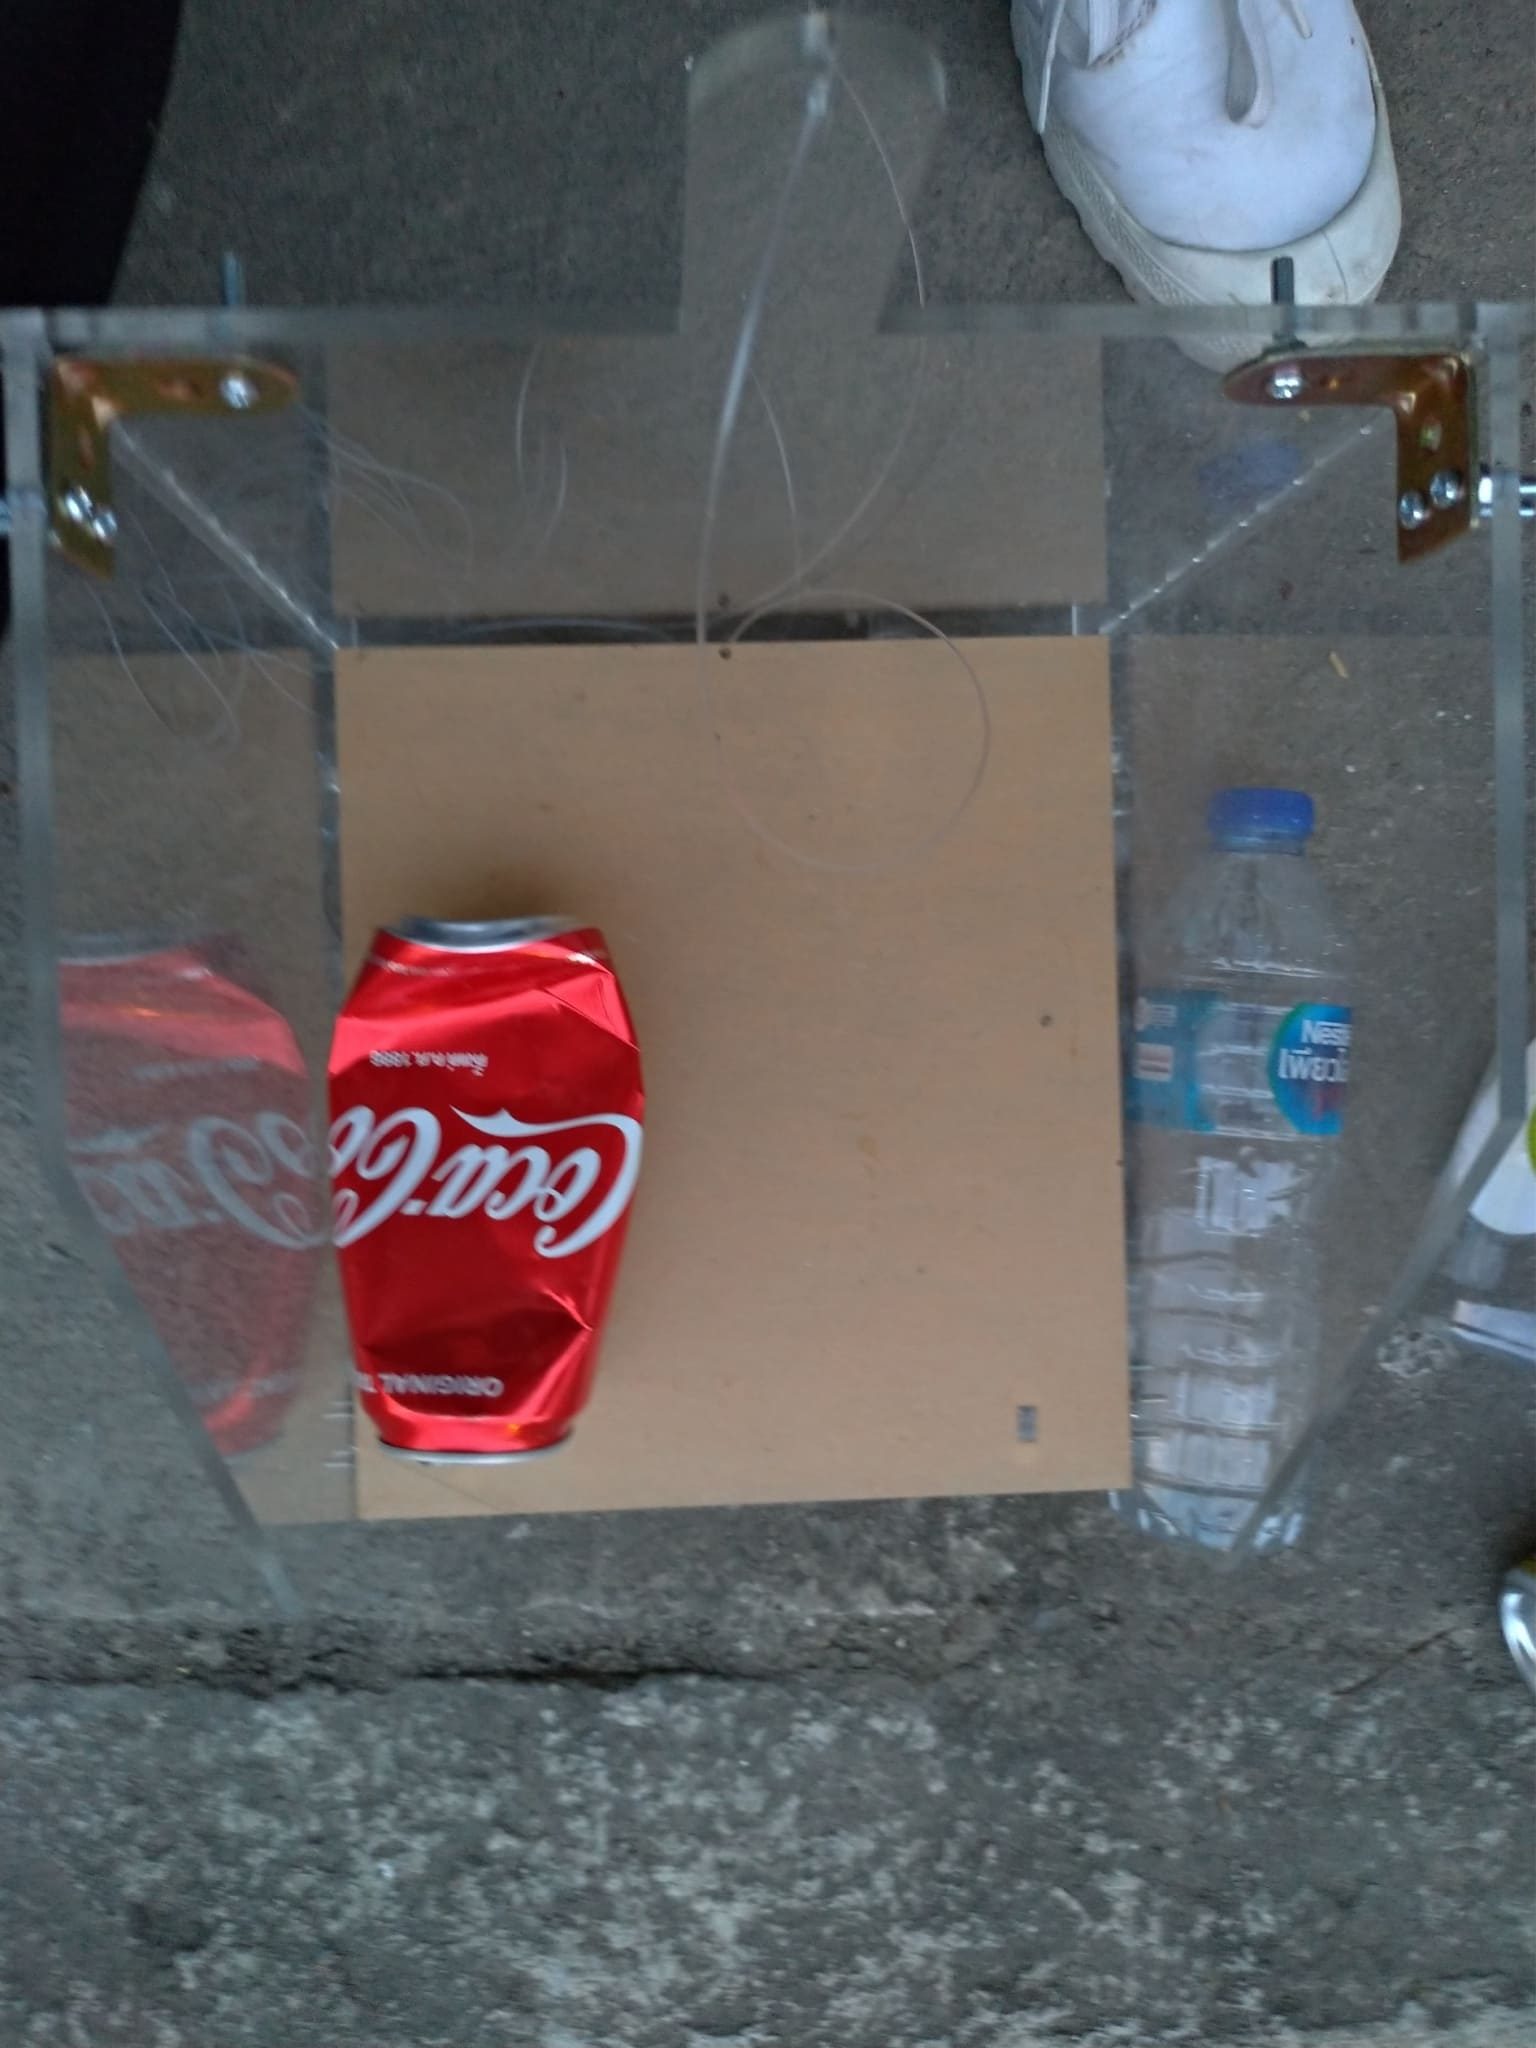AlCan: (328, 910, 657, 1467)
PlasticBottle: (1107, 790, 1367, 1551)
